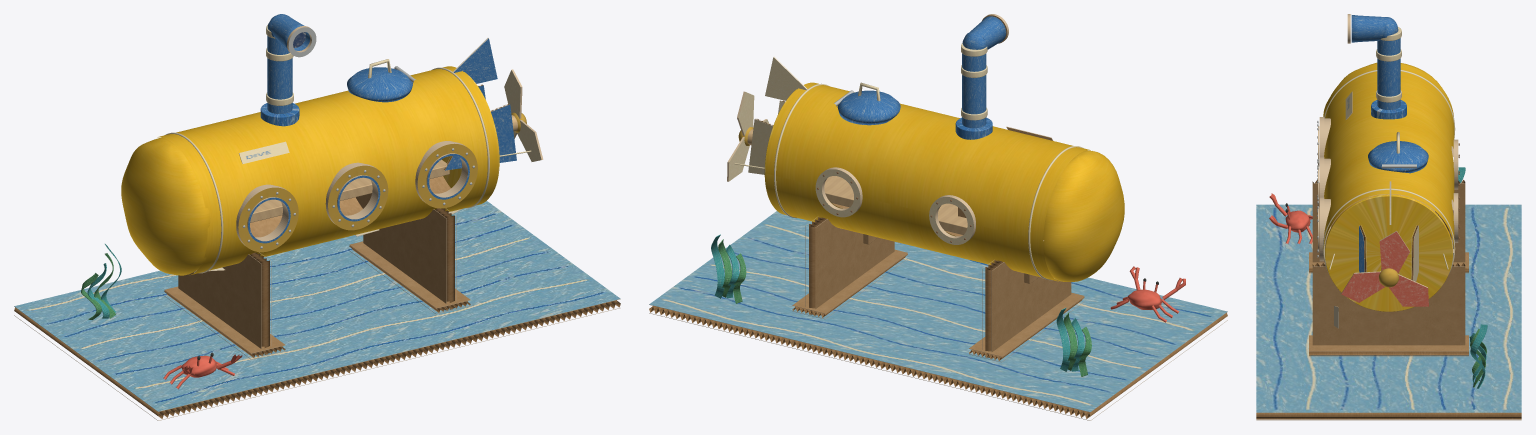
Rendered from 29_cardboard_submarine.glb.
The picture shows the model from 3 angles, left to right: view 1: azimuth 30°, elevation 25°; view 2: azimuth 150°, elevation 25°; view 3: azimuth 270°, elevation 25°; orthographic projection. The views are drawn at different scales.
Parts seen in each view (by area): view 1: artwork_29_cardboard_submarine, paint_yellow, kraft, blue, flute, edge, foil_gold, cream, wood_light, clay_coral, foil, green; view 2: artwork_29_cardboard_submarine, paint_yellow, kraft, cream, flute, blue, edge, teal, green, wood_light, clay_coral; view 3: artwork_29_cardboard_submarine, paint_yellow, kraft, yellow, blue, edge, flute, coral, cream, clay_coral, teal, green (+2 smaller).
Boxes of the visible parts, x1,y1,x2,y2 form: artwork_29_cardboard_submarine: [14, 141, 620, 411]; paint_yellow: [121, 66, 498, 275]; kraft: [164, 176, 470, 355]; blue: [248, 14, 516, 243]; flute: [14, 84, 620, 418]; edge: [14, 26, 620, 420]; foil_gold: [238, 112, 526, 252]; cream: [165, 25, 541, 273]; wood_light: [250, 115, 517, 222]; clay_coral: [163, 354, 242, 389]; foil: [242, 27, 474, 248]; green: [81, 253, 115, 319]; artwork_29_cardboard_submarine: [649, 211, 1227, 411]; paint_yellow: [766, 82, 1124, 281]; kraft: [792, 15, 1083, 358]; cream: [728, 43, 1083, 280]; flute: [649, 100, 1227, 418]; blue: [837, 16, 1006, 139]; edge: [649, 14, 1227, 420]; teal: [711, 234, 1084, 371]; green: [718, 239, 1091, 376]; wood_light: [747, 129, 967, 234]; clay_coral: [1110, 266, 1185, 322]; artwork_29_cardboard_submarine: [1256, 91, 1521, 412]; paint_yellow: [1323, 62, 1454, 248]; kraft: [1309, 184, 1468, 350]; yellow: [1325, 194, 1452, 311]; blue: [1351, 15, 1428, 272]; edge: [1256, 14, 1521, 420]; flute: [1256, 180, 1521, 419]; coral: [1341, 231, 1428, 306]; cream: [1322, 27, 1455, 281]; clay_coral: [1269, 193, 1312, 243]; teal: [1458, 167, 1487, 388]; green: [1469, 328, 1486, 387].
Size of the model in its own units: 0.63 by 0.403 by 0.34.
21 materials, 19 textured.
